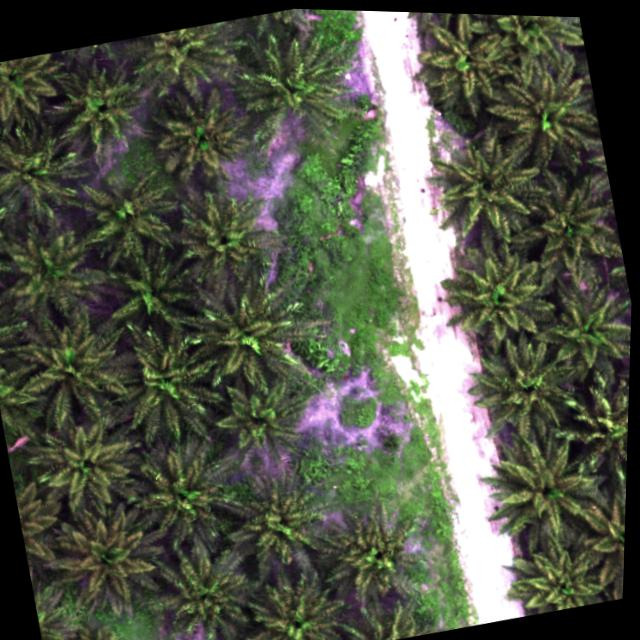oilpalm: (415, 122, 561, 253), (483, 430, 611, 553), (226, 19, 350, 145), (401, 12, 525, 132), (430, 243, 556, 355), (186, 278, 304, 397), (139, 523, 254, 640), (491, 65, 606, 179), (31, 411, 143, 527), (49, 503, 162, 615), (513, 174, 627, 285), (463, 336, 580, 443), (530, 277, 632, 396), (113, 335, 224, 440), (20, 324, 129, 428), (492, 530, 612, 623), (0, 220, 99, 327), (129, 443, 237, 541), (47, 63, 154, 160), (78, 171, 186, 266), (145, 97, 247, 194), (97, 250, 202, 342), (317, 509, 419, 603), (548, 371, 630, 485), (226, 567, 354, 640), (173, 204, 279, 290), (228, 479, 326, 568), (561, 469, 627, 593), (132, 18, 234, 97), (472, 14, 588, 81), (206, 373, 294, 461), (0, 131, 78, 218), (0, 49, 65, 129)
